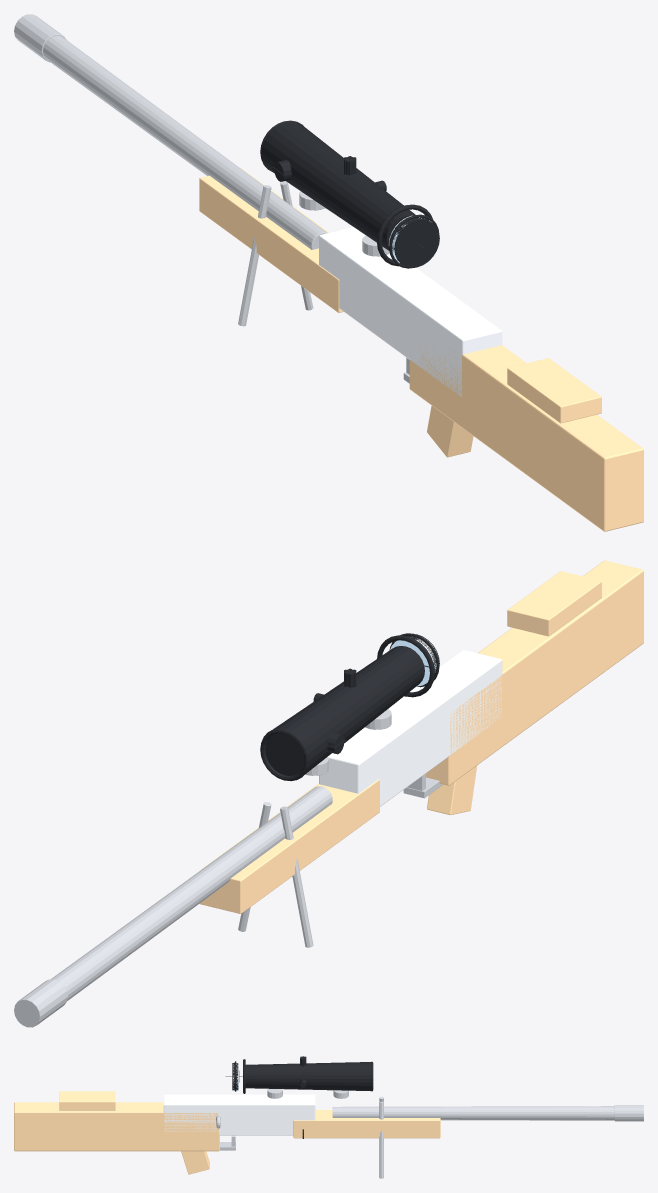
3 views of the same model, one above another, from view 1: azimuth 30°, elevation 25°; view 2: azimuth 150°, elevation 25°; view 3: azimuth 270°, elevation 25° (orthographic). The views are drawn at different scales.
Parts seen in each view (by area): view 1: Stock, Receiver, ScopeTubeBody, Barrel, ForendTaper, CheekRest, ScopeLensBlack, Grip, Muzzle, BipodLegL; view 2: Stock, Receiver, ScopeTubeBody, Barrel, ForendTaper, CheekRest, Muzzle, Grip, BipodLegL; view 3: Stock, Receiver, Barrel, ScopeTubeBody, ForendTaper, CheekRest, Grip, Muzzle, BipodLegR, ScopeMounts.
Boxes of the visible parts, bbox=[...] form: Stock: bbox=[409, 339, 643, 531]; Receiver: bbox=[319, 227, 502, 396]; ScopeTubeBody: bbox=[260, 120, 433, 266]; Barrel: bbox=[43, 35, 327, 249]; ForendTaper: bbox=[199, 168, 343, 312]; CheekRest: bbox=[507, 358, 601, 423]; ScopeLensBlack: bbox=[389, 217, 439, 267]; Grip: bbox=[427, 406, 473, 457]; Muzzle: bbox=[14, 14, 66, 62]; BipodLegL: bbox=[238, 185, 271, 326]; Stock: bbox=[426, 560, 643, 785]; Receiver: bbox=[319, 650, 502, 806]; ScopeTubeBody: bbox=[260, 635, 434, 781]; Barrel: bbox=[51, 786, 332, 1000]; ForendTaper: bbox=[199, 779, 379, 913]; CheekRest: bbox=[507, 571, 601, 636]; Muzzle: bbox=[14, 979, 67, 1027]; Grip: bbox=[427, 765, 477, 815]; BipodLegL: bbox=[280, 806, 313, 947]; Stock: bbox=[14, 1102, 219, 1151]; Receiver: bbox=[163, 1094, 315, 1135]; Barrel: bbox=[332, 1106, 614, 1120]; ScopeTubeBody: bbox=[243, 1056, 373, 1138]; ForendTaper: bbox=[293, 1110, 440, 1138]; CheekRest: bbox=[59, 1091, 115, 1110]; Grip: bbox=[181, 1151, 209, 1174]; Muzzle: bbox=[614, 1105, 643, 1121]; BipodLegR: bbox=[379, 1101, 383, 1178]; ScopeMounts: bbox=[267, 1088, 348, 1098].
Size of the model in its own units: 0.0989 by 0.2567 by 1.29.
